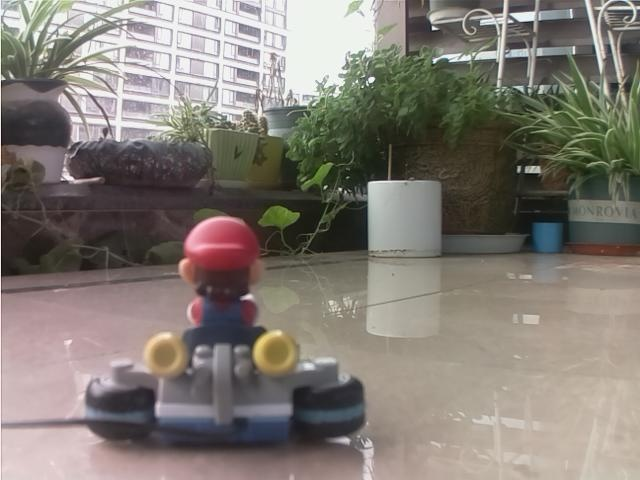mario: (75, 211, 379, 457)
